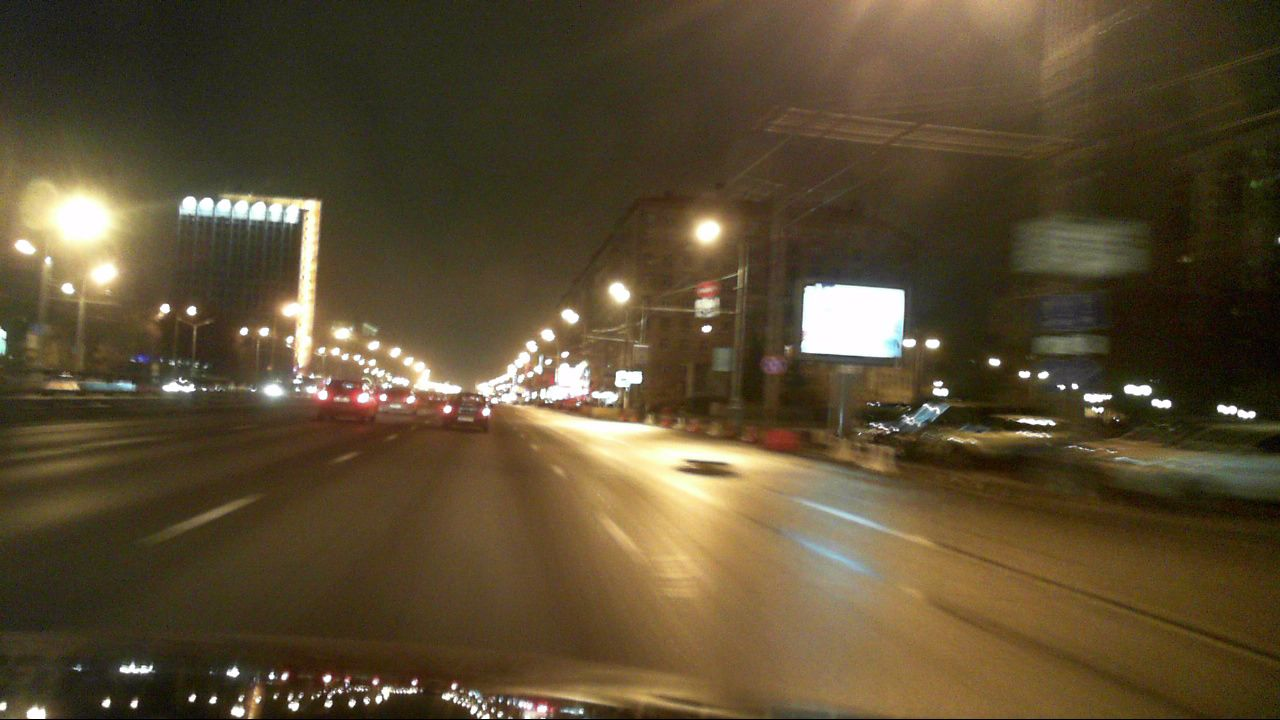No Parking: (761, 353, 785, 375)
